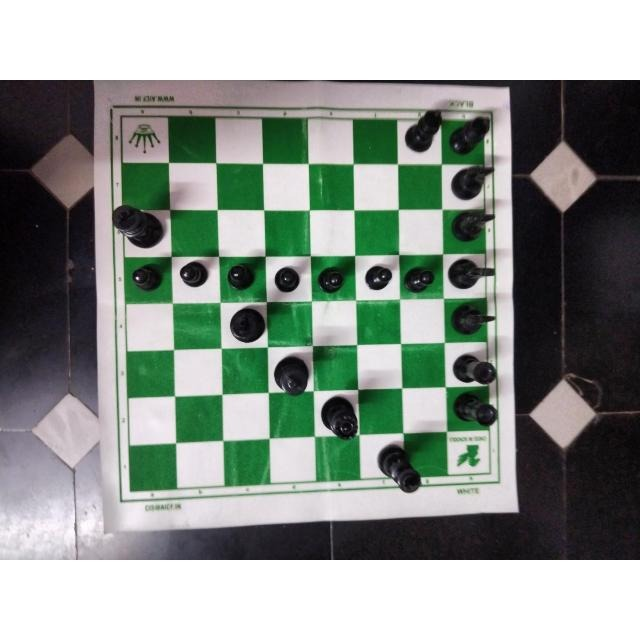black-bishop: (447, 112, 493, 158), (404, 106, 444, 157)
black-king: (109, 200, 167, 250), (373, 443, 425, 493), (269, 346, 312, 398), (225, 304, 269, 342)
black-knight: (448, 162, 498, 202), (447, 254, 498, 293), (447, 297, 496, 334), (446, 208, 495, 241)
black-pawn: (401, 262, 440, 300), (223, 259, 258, 295), (174, 258, 209, 292), (128, 258, 164, 291), (313, 260, 349, 293), (362, 261, 394, 295), (272, 260, 303, 293)
black-queen: (317, 393, 361, 441)
black-rook: (450, 344, 502, 389), (449, 393, 503, 435)
